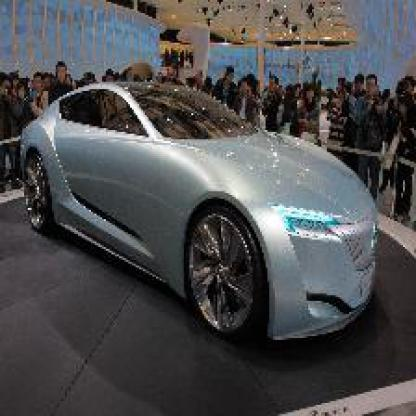not_emergency: (17, 61, 394, 348)
